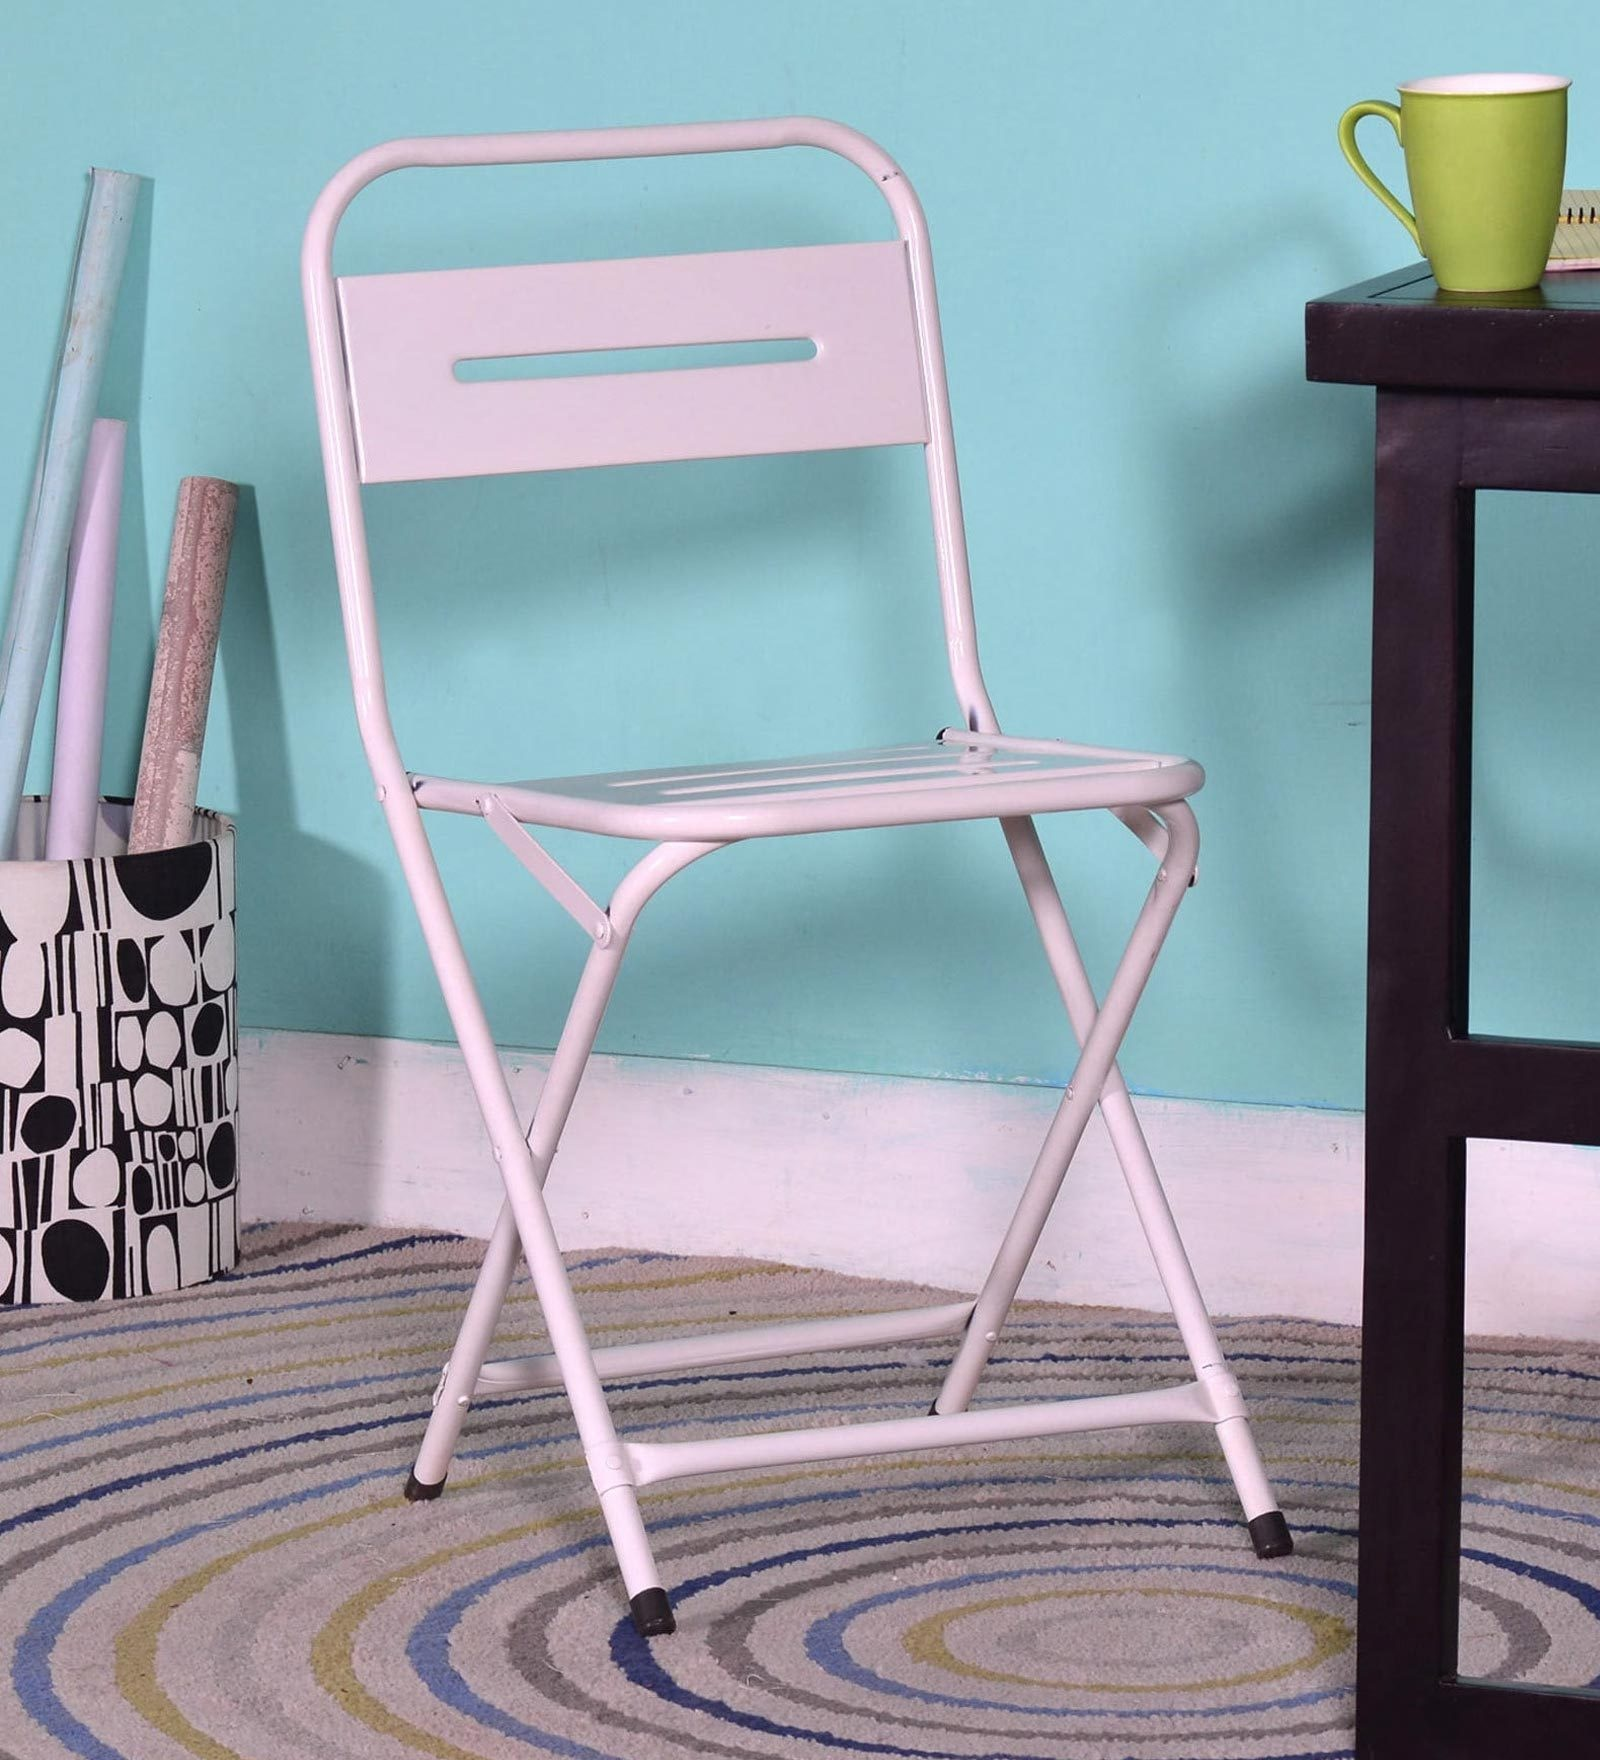Marandoo Grunge White Outdoor Folding Chair by Bohemiana: (280, 112, 1310, 1630)
